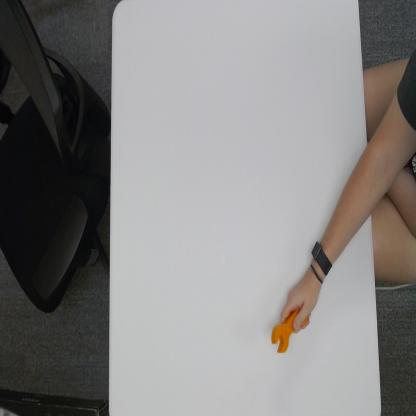Hand: (280, 273, 322, 331)
Screwdriver: (268, 306, 298, 358)
